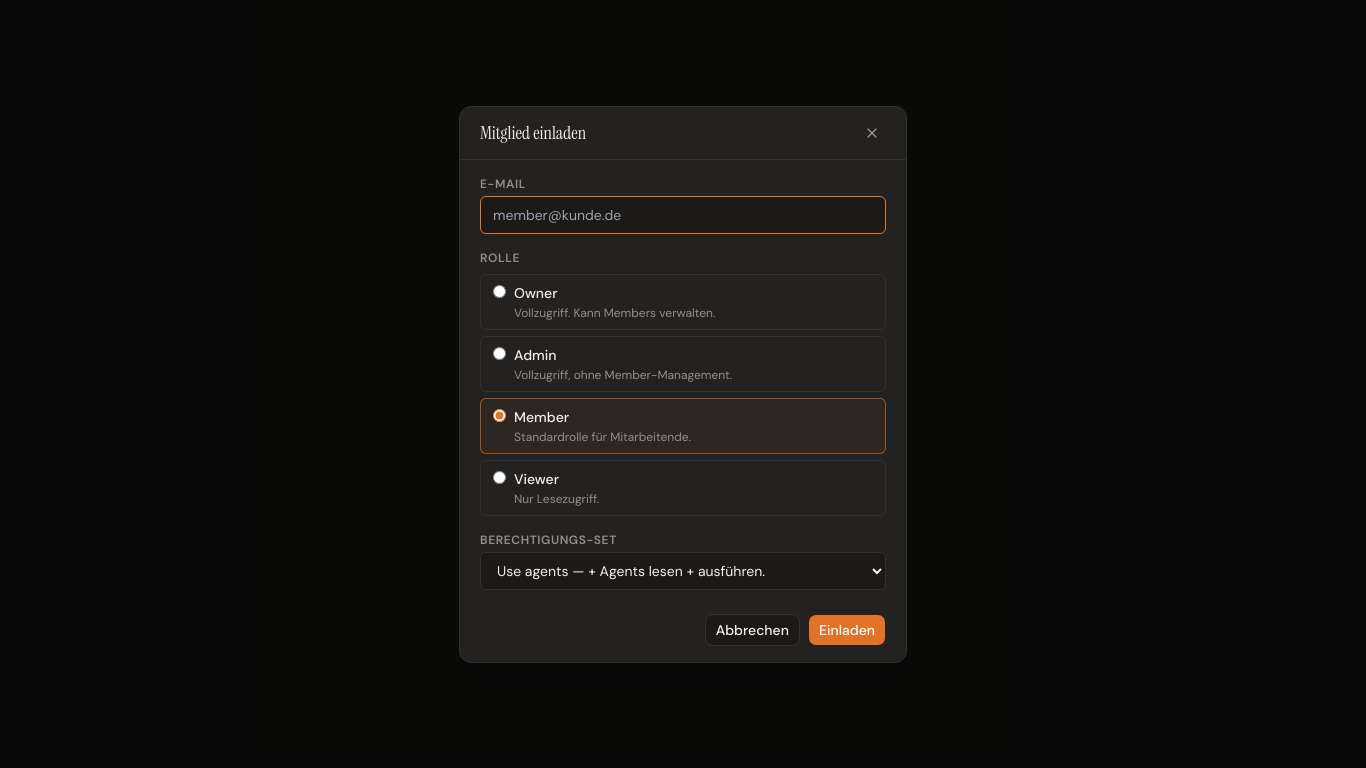
Scenario: InviteSubOrgMemberModal › shows an inline error and does not POST when email is invalid
In the field with test id "sub-org-memberships-invite-email": (683, 214) [480, 196, 886, 234], type "no-at-sign"
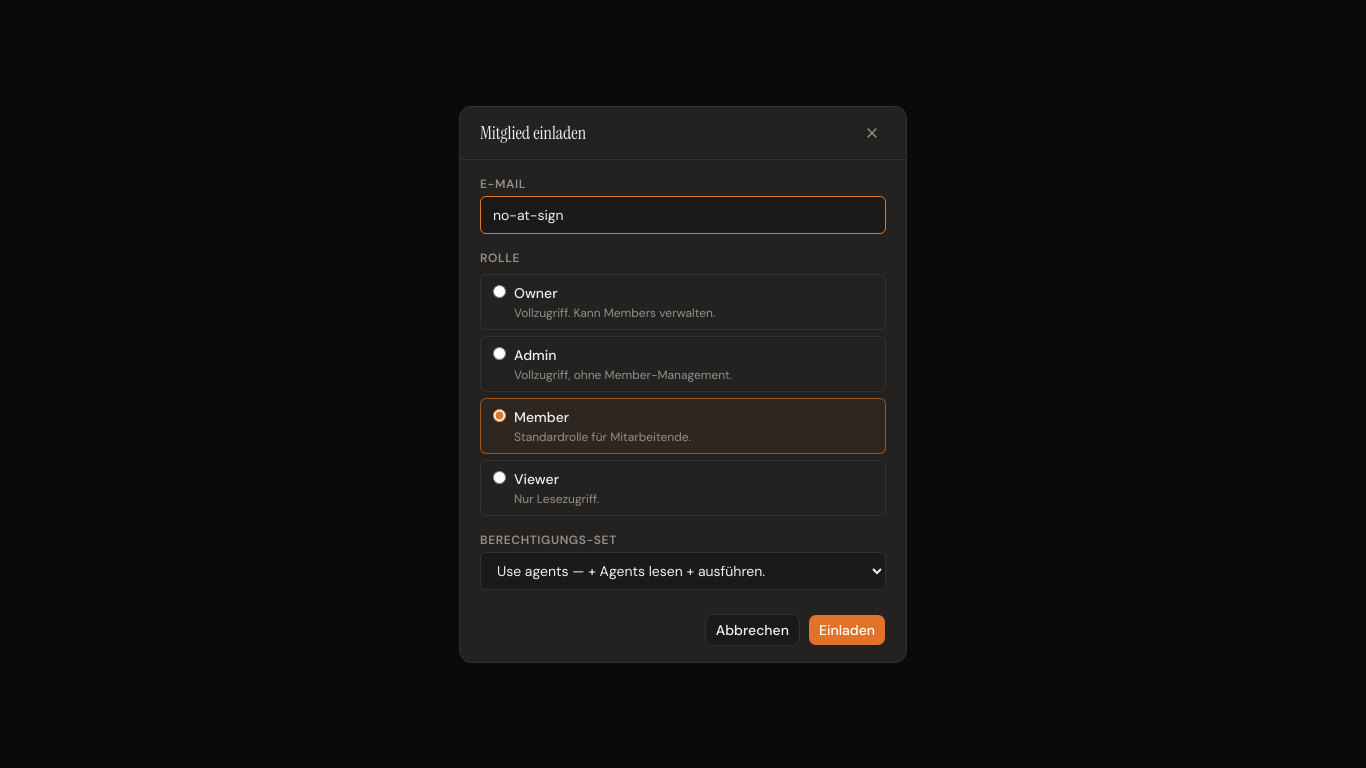
Submit the form with test id "sub-org-memberships-invite-email", box [460, 160, 906, 662]
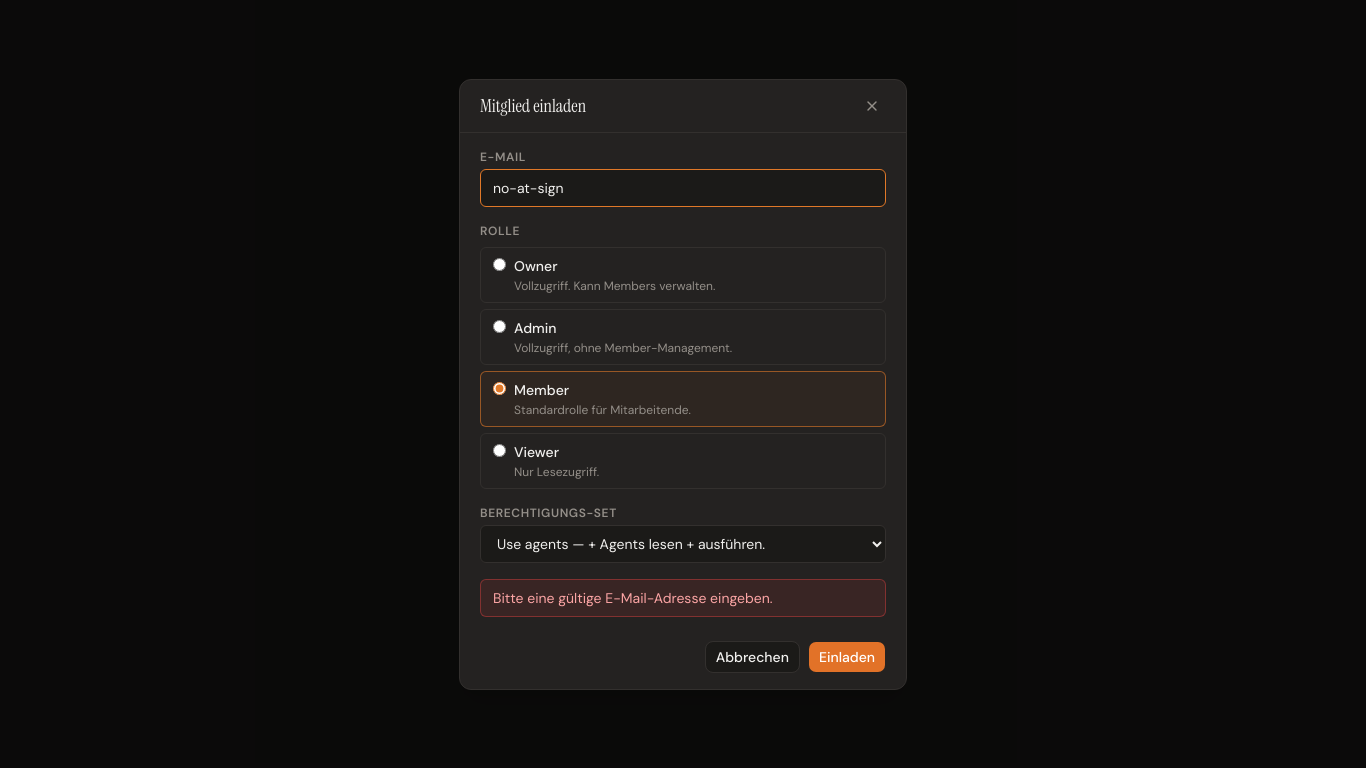
Check: the text "Bitte eine gültige E-Mail-Adresse eingeben." is shown, box [480, 578, 886, 616]
